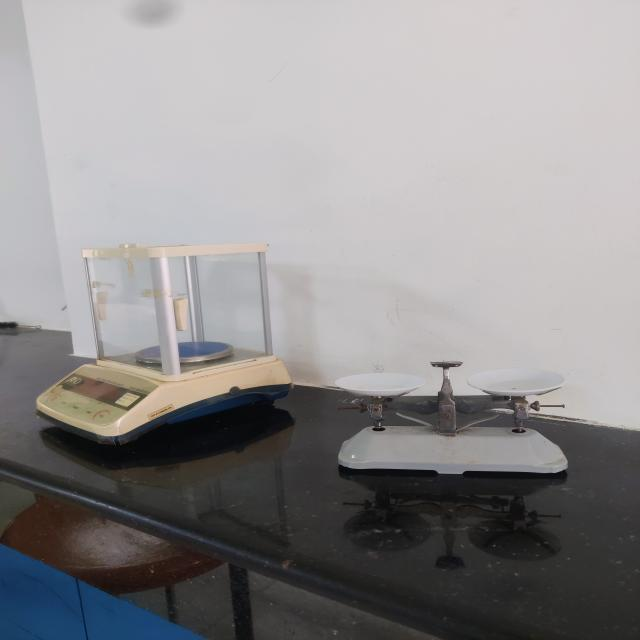Mechanical_Balance_Scale: (324, 342, 588, 494)
Precision_Weight_Scale: (34, 228, 300, 458)
